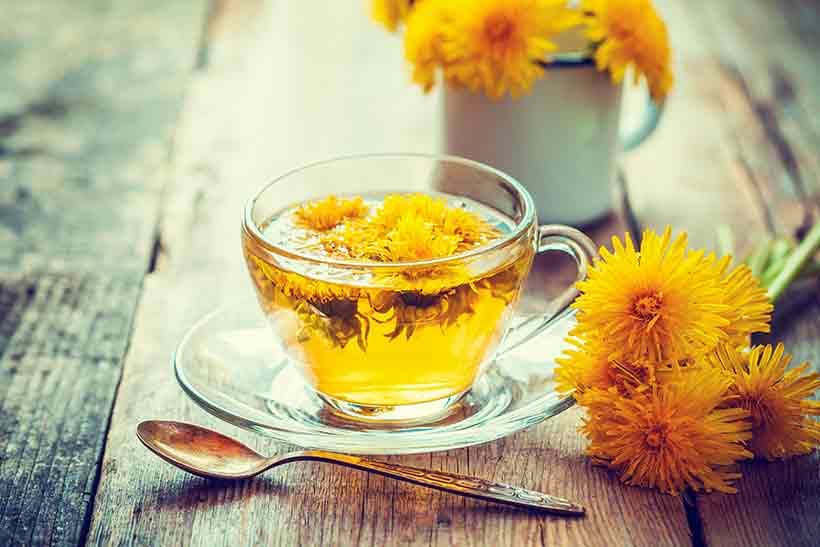dandelion: (403, 2, 663, 94), (585, 383, 759, 507), (585, 236, 709, 362), (709, 339, 820, 459), (335, 190, 469, 260)
